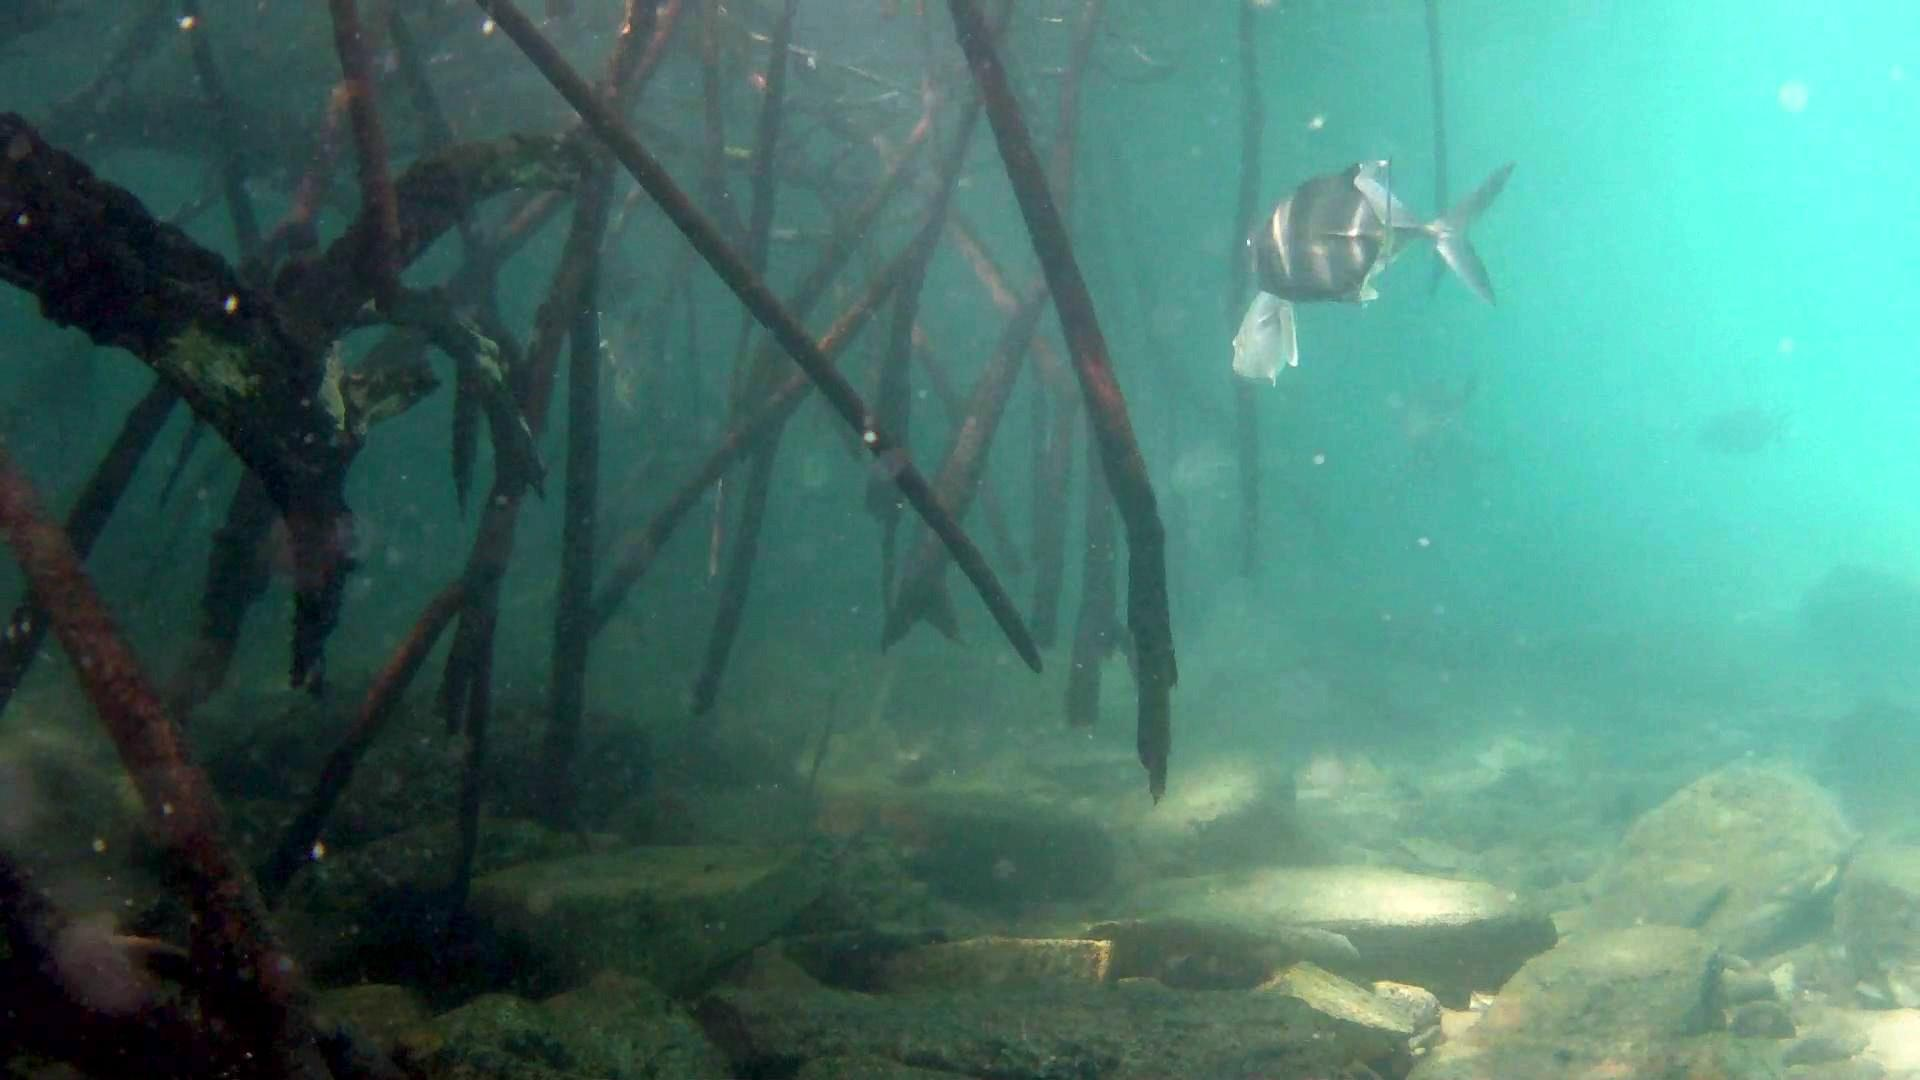caranx: (1238, 148, 1411, 322)
